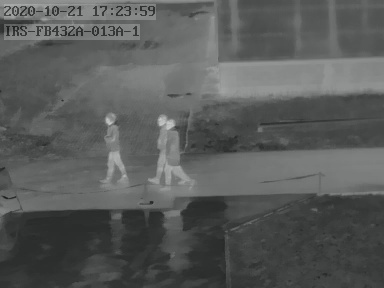person: (100, 110, 129, 183), (164, 119, 193, 188), (148, 113, 170, 185)
